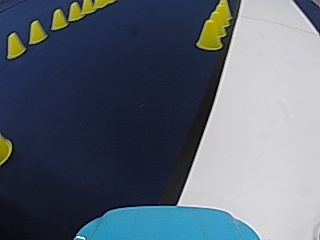cone: (195, 17, 223, 50), (209, 0, 231, 28), (207, 8, 227, 37), (6, 31, 25, 58), (28, 19, 47, 43), (50, 7, 67, 29), (0, 135, 12, 166), (67, 1, 82, 20), (81, 0, 93, 14)
